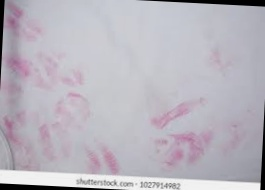lipstick: (1, 105, 128, 178), (151, 130, 213, 173), (147, 97, 214, 130), (48, 89, 93, 132), (41, 52, 87, 88), (5, 5, 41, 42), (3, 50, 39, 82), (229, 113, 257, 153), (207, 47, 232, 77)
